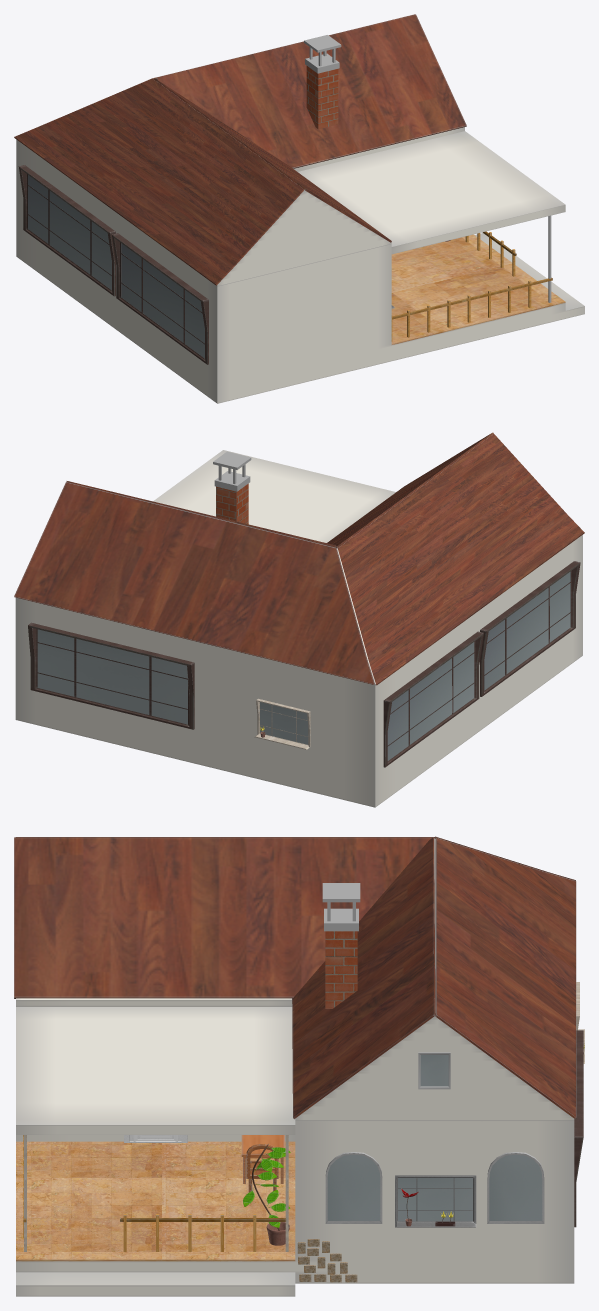
Rendered from house.glb.
The picture shows the model from 3 angles, top to bottom: view 1: azimuth 30°, elevation 25°; view 2: azimuth 150°, elevation 25°; view 3: azimuth 270°, elevation 25°; orthographic projection. The views are drawn at different scales.
Parts seen in each view (by area): view 1: pCube1159, pCube1154, pCube1153, pCube1160, pCube79, pCube1168, pCube1169, pCube62, pCube61, pCube1152, pCube68, pCube16; view 2: pCube1159, pCube1155, pCube1154, pCube1166, pCube1168, pCube1169, pCube31, pCube61, pCube62, pCube1152, pCube1167, pCube68 (+2 smaller); view 3: pCube1159, pCube1152, pCube1160, pCube1155, pCube1153, pCube79, pCube1164, pCube1165, pCube1163, pCube68, pCube29, pCube31 (+9 smaller).
Part boxes in pixels (x1,y1,x2,y2): pCube1159: [16, 127, 584, 403]; pCube1154: [14, 78, 303, 285]; pCube1153: [156, 14, 466, 168]; pCube1160: [391, 234, 565, 344]; pCube79: [156, 78, 391, 286]; pCube1168: [28, 175, 111, 290]; pCube1169: [121, 243, 204, 358]; pCube62: [112, 233, 208, 364]; pCube61: [18, 165, 115, 296]; pCube1152: [154, 78, 391, 242]; pCube68: [306, 66, 338, 129]; pCube16: [392, 277, 552, 319]; pCube1159: [15, 450, 582, 807]; pCube1155: [14, 482, 375, 685]; pCube1154: [337, 434, 584, 685]; pCube1166: [37, 629, 187, 724]; pCube1168: [387, 642, 474, 760]; pCube1169: [484, 571, 570, 690]; pCube31: [28, 622, 194, 729]; pCube61: [383, 631, 483, 767]; pCube62: [480, 561, 580, 696]; pCube1152: [327, 432, 493, 547]; pCube1167: [260, 702, 308, 744]; pCube68: [216, 483, 248, 524]; pCube1159: [16, 1000, 574, 1296]; pCube1152: [14, 837, 434, 998]; pCube1160: [16, 1141, 295, 1261]; pCube1155: [435, 837, 576, 1118]; pCube1153: [292, 837, 435, 1119]; pCube79: [16, 838, 574, 1120]; pCube1164: [327, 1154, 380, 1220]; pCube1165: [489, 1154, 542, 1220]; pCube1163: [398, 1178, 472, 1221]; pCube68: [325, 931, 357, 1008]; pCube29: [395, 1175, 476, 1227]; pCube31: [574, 1030, 583, 1227].
Size of the model in its own units: 0.185 by 0.1047 by 0.1763.
Materials: 36 (29 with a texture image).
